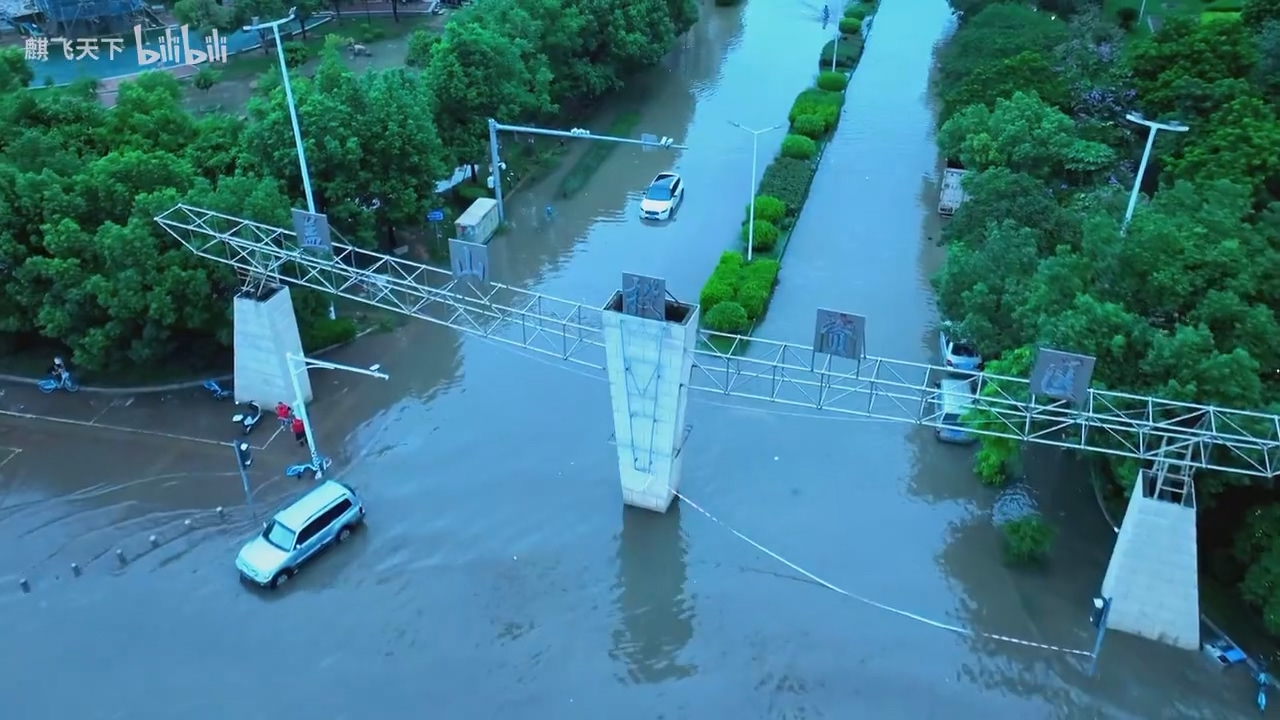puddle: (16, 405, 1073, 705), (590, 61, 958, 292)
